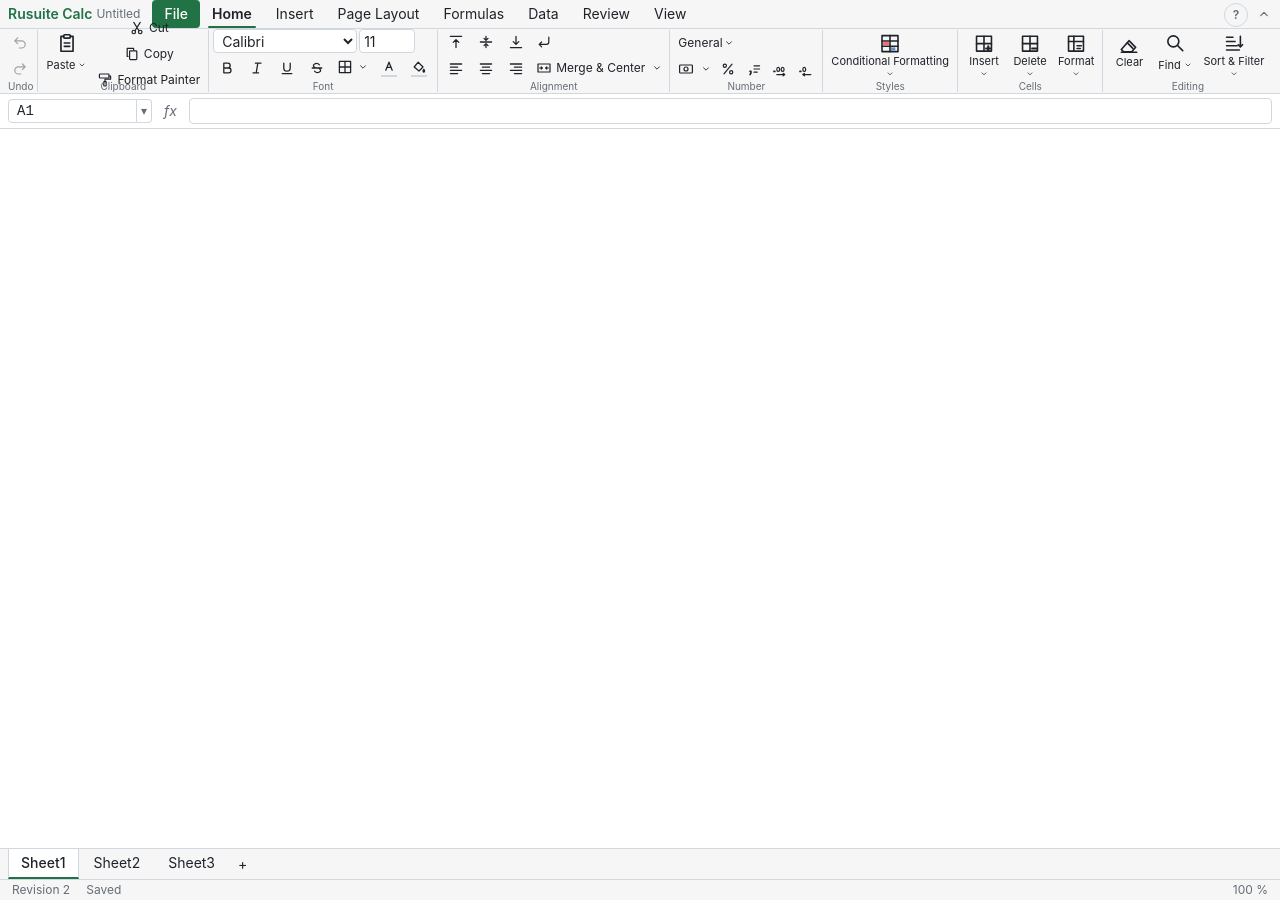
Test: sheet handling (P9-C1) › Move or Copy with Create a copy puts Sheet1 (2) before the chosen sheet, as one command
This screenshot has width=1280, height=900.
Right-click the tab "Sheet1" at {"x": 43, "y": 864}, box [8, 849, 78, 879]
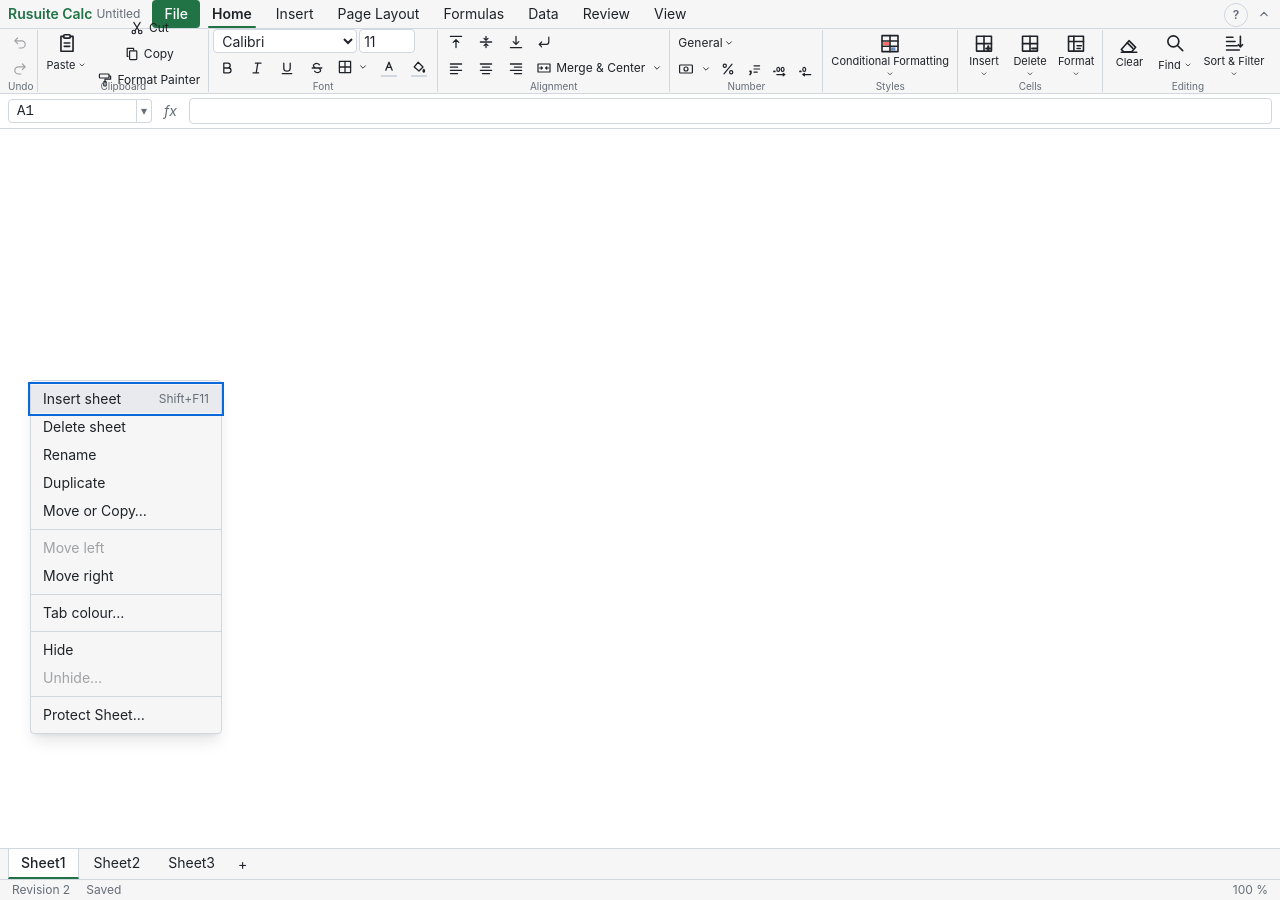
Click the menu item "Move or Copy…" at {"x": 126, "y": 511}, box [31, 497, 221, 525]
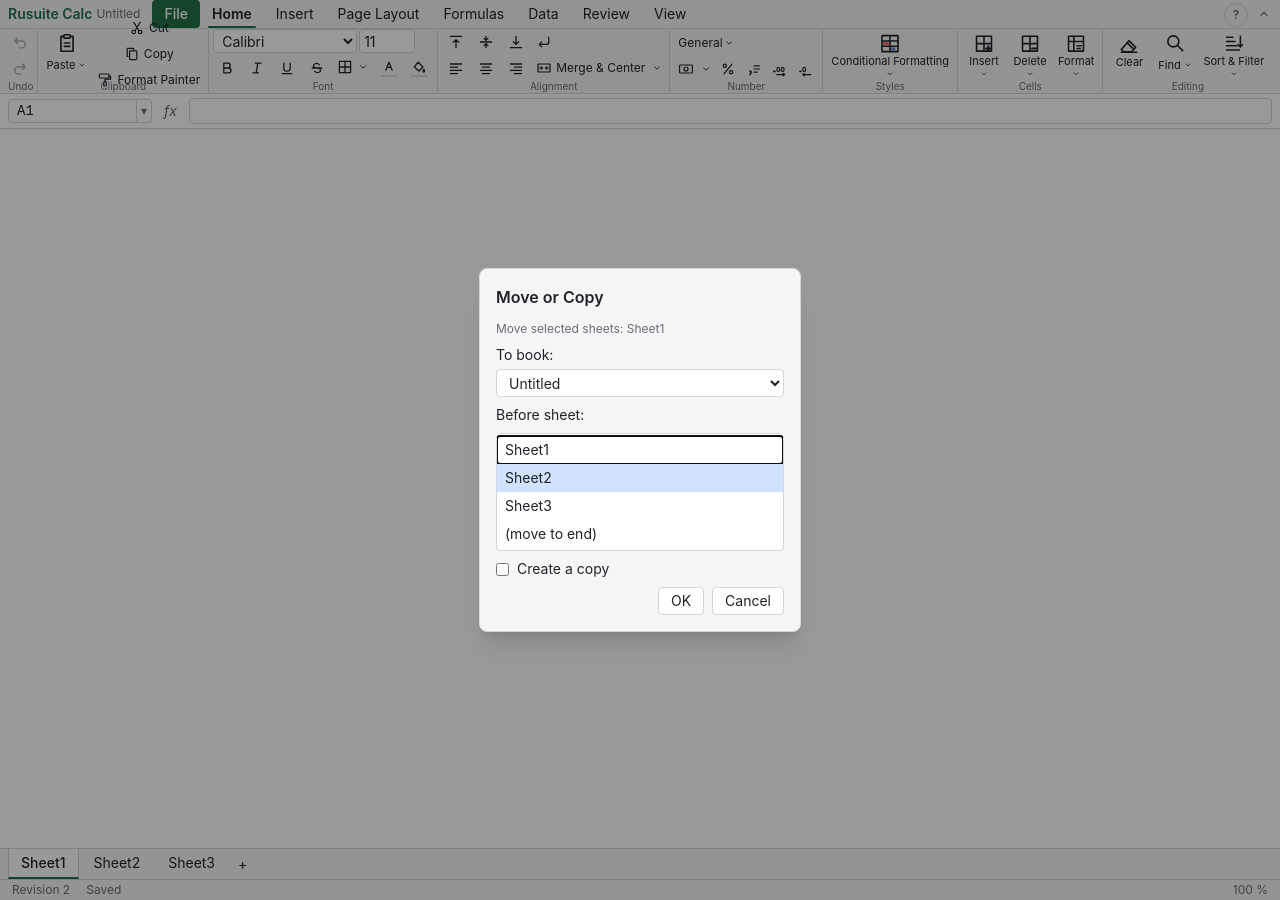
Click the option "Sheet3" at {"x": 528, "y": 506}, box [497, 492, 783, 520]
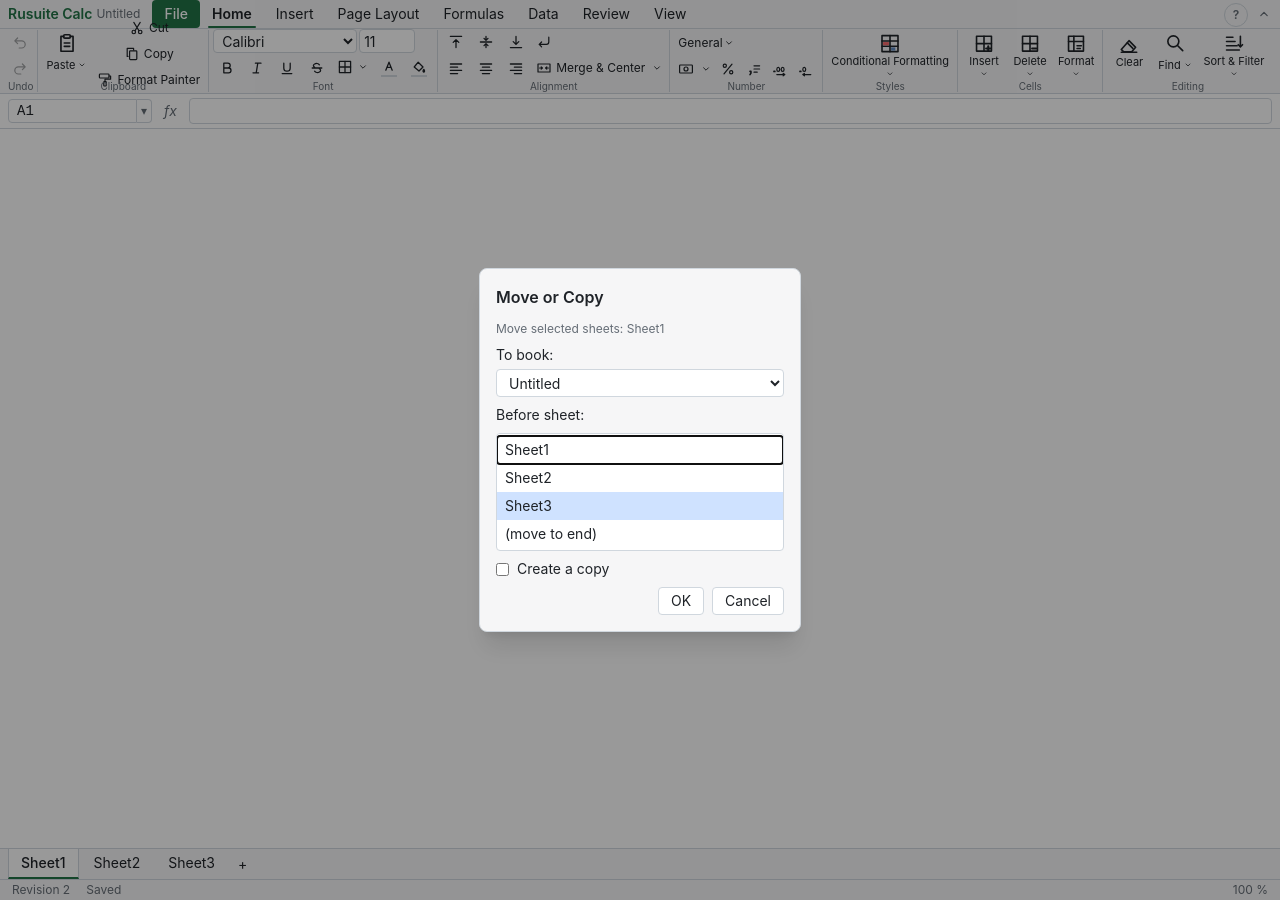
Click the checkbox labelled "Create a copy" at {"x": 502, "y": 569}, box [496, 562, 509, 576]
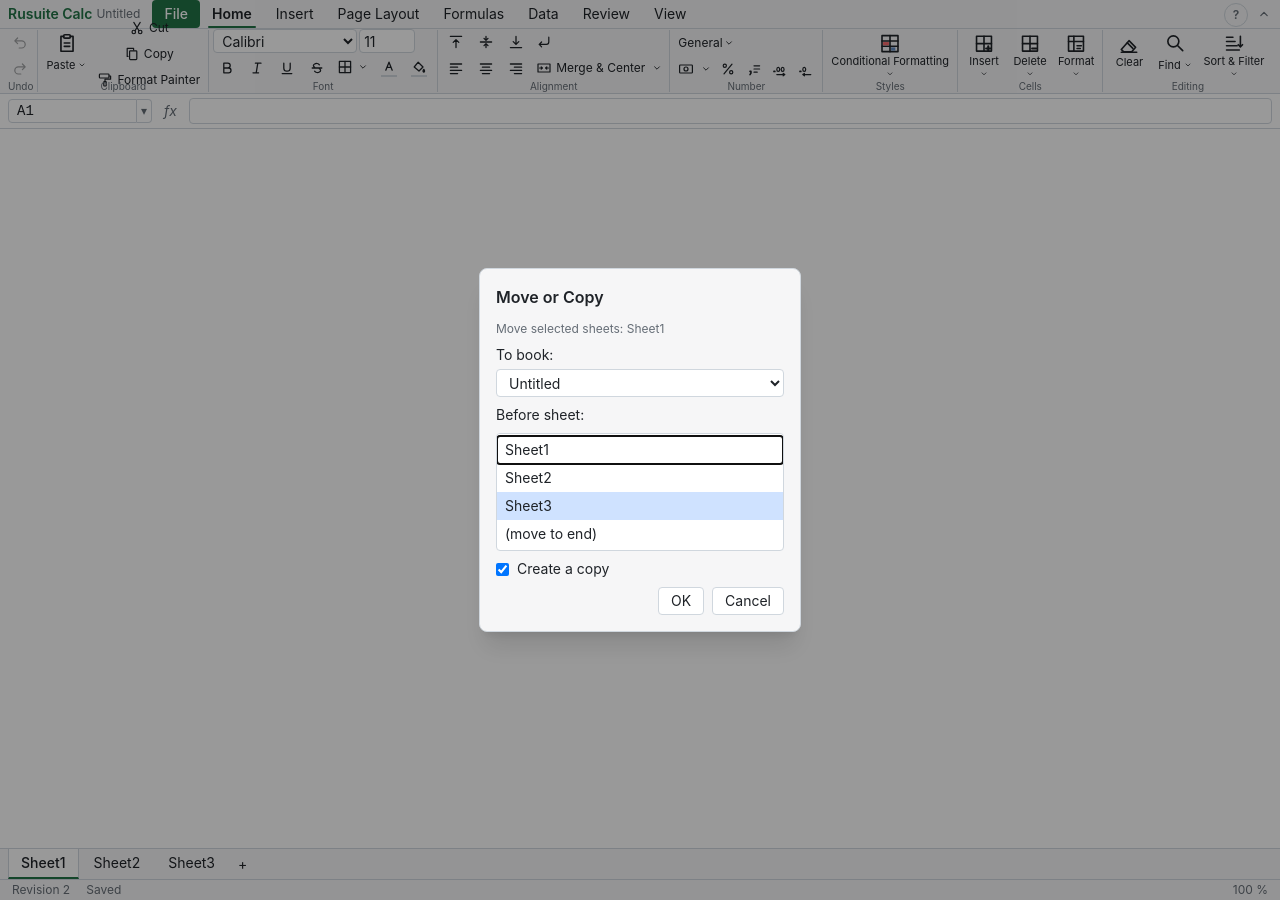
Click the button "OK" at {"x": 681, "y": 601}, box [658, 587, 704, 615]
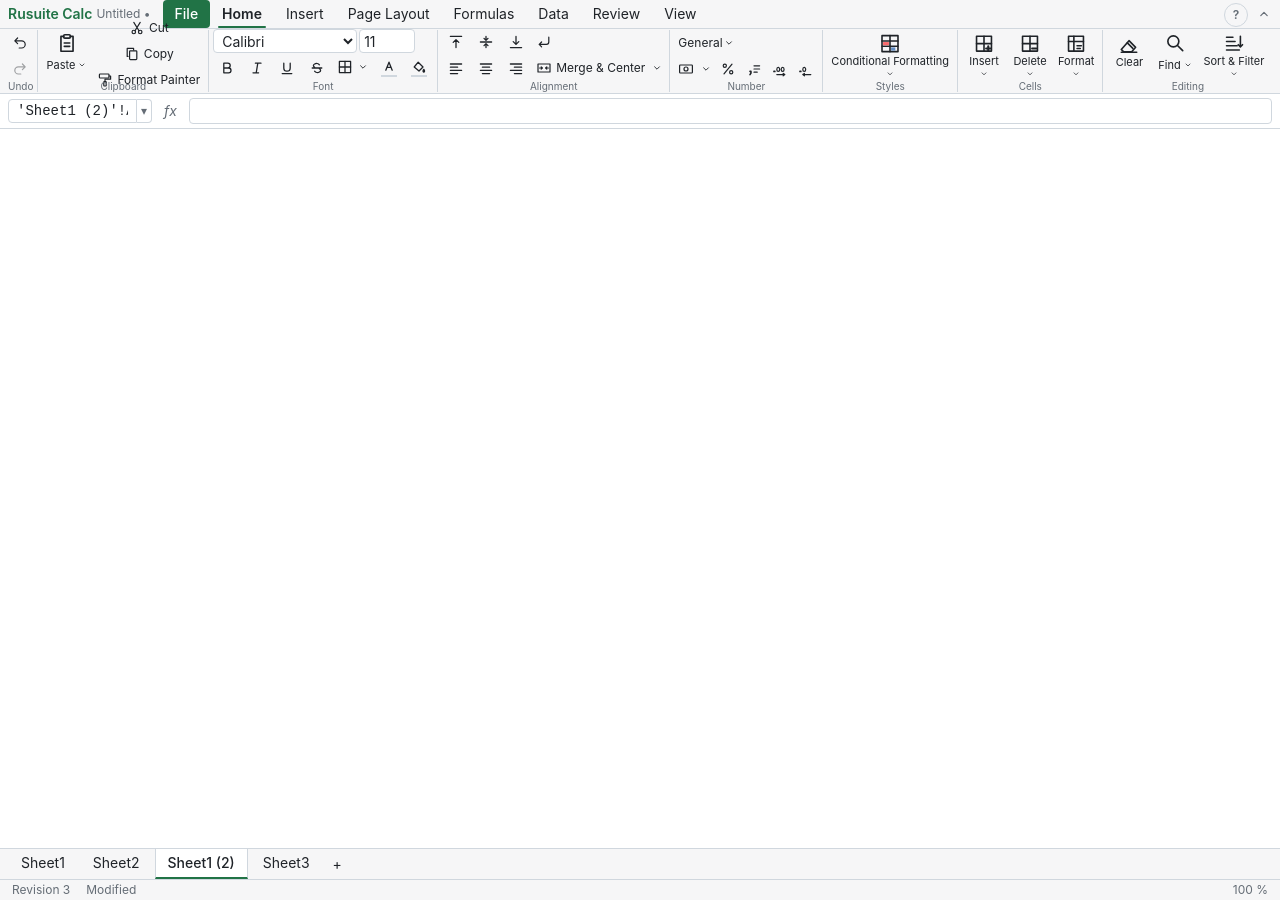
Now the tab "Sheet1 (2)" is shown, box [155, 849, 248, 879]
